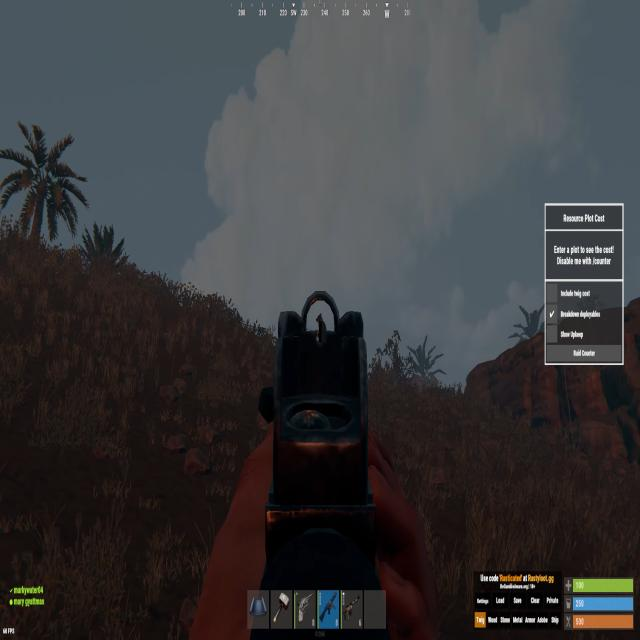Player: (317, 312, 326, 340)
